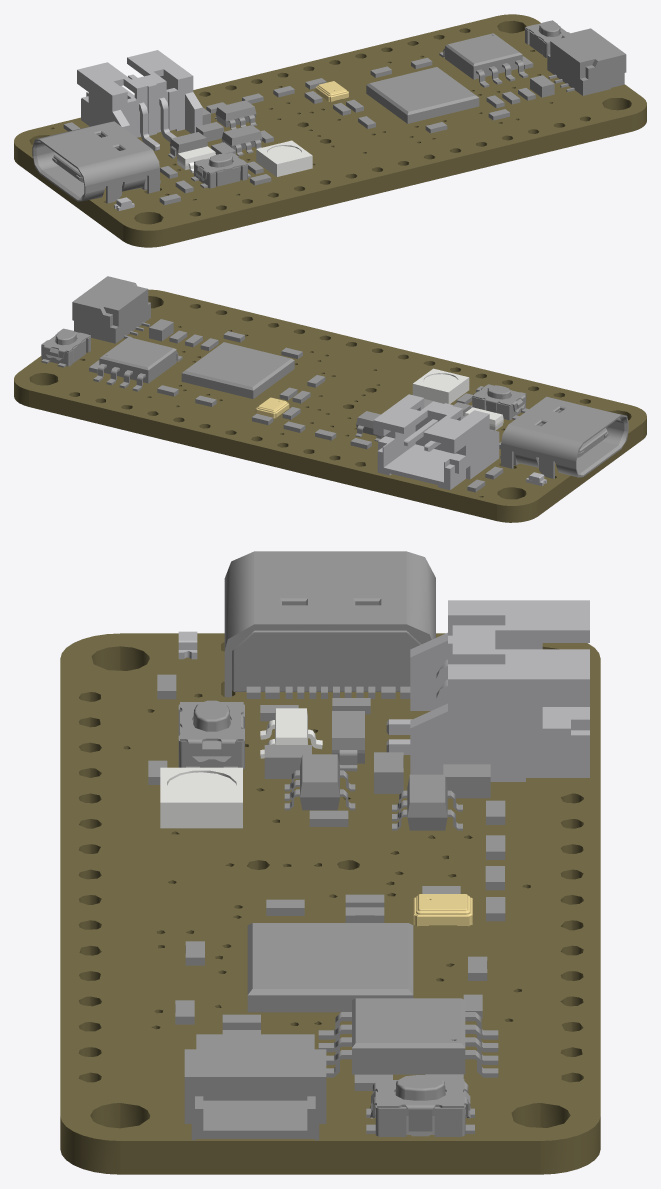
Rendered from ada-4884.glb.
3 views of the same model, one above another, from view 1: azimuth 30°, elevation 25°; view 2: azimuth 150°, elevation 25°; view 3: azimuth 270°, elevation 25° (orthographic). The views are drawn at different scales.
Parts seen in each view (by area): view 1: 0.16666666666666666_0.16666666666666666_0.08333333333333333_, 0.3333333333333333_0.3333333333333333_0.3333333333333333_0, 0.5833333333333334_0.5833333333333334_0.5833333333333334_0.8, 0.9166666666666666_0.9166666666666666_0.9166666666666666_0.8, 0.9166666666666666_0.75_0.3333333333333333_0.9; view 2: 0.16666666666666666_0.16666666666666666_0.08333333333333333_, 0.3333333333333333_0.3333333333333333_0.3333333333333333_0, 0.5833333333333334_0.5833333333333334_0.5833333333333334_0.8, 0.9166666666666666_0.9166666666666666_0.9166666666666666_0.8, 0.9166666666666666_0.75_0.3333333333333333_0.9; view 3: 0.16666666666666666_0.16666666666666666_0.08333333333333333_, 0.3333333333333333_0.3333333333333333_0.3333333333333333_0, 0.5833333333333334_0.5833333333333334_0.5833333333333334_0.8, 0.9166666666666666_0.9166666666666666_0.9166666666666666_0.8, 0.9166666666666666_0.75_0.3333333333333333_0.9.
Boxes of the visible parts, left/top/right/bottom form: 0.16666666666666666_0.16666666666666666_0.08333333333333333_: left=14, top=14, right=646, bottom=247; 0.3333333333333333_0.3333333333333333_0.3333333333333333_0: left=32, top=20, right=626, bottom=205; 0.5833333333333334_0.5833333333333334_0.5833333333333334_0.8: left=54, top=50, right=202, bottom=211; 0.9166666666666666_0.9166666666666666_0.9166666666666666_0.8: left=177, top=140, right=312, bottom=176; 0.9166666666666666_0.75_0.3333333333333333_0.9: left=315, top=81, right=348, bottom=101; 0.16666666666666666_0.16666666666666666_0.08333333333333333_: left=14, top=289, right=646, bottom=522; 0.3333333333333333_0.3333333333333333_0.3333333333333333_0: left=41, top=276, right=628, bottom=492; 0.5833333333333334_0.5833333333333334_0.5833333333333334_0.8: left=373, top=394, right=606, bottom=490; 0.9166666666666666_0.9166666666666666_0.9166666666666666_0.8: left=412, top=368, right=503, bottom=430; 0.9166666666666666_0.75_0.3333333333333333_0.9: left=255, top=397, right=289, bottom=418; 0.16666666666666666_0.16666666666666666_0.08333333333333333_: left=60, top=633, right=600, bottom=1174; 0.3333333333333333_0.3333333333333333_0.3333333333333333_0: left=148, top=551, right=505, bottom=1140; 0.5833333333333334_0.5833333333333334_0.5833333333333334_0.8: left=178, top=600, right=589, bottom=781; 0.9166666666666666_0.9166666666666666_0.9166666666666666_0.8: left=160, top=708, right=322, bottom=828; 0.9166666666666666_0.75_0.3333333333333333_0.9: left=413, top=894, right=472, bottom=926.
Bounding box in the file's own units: 5.19 × 0.637 × 2.29.
